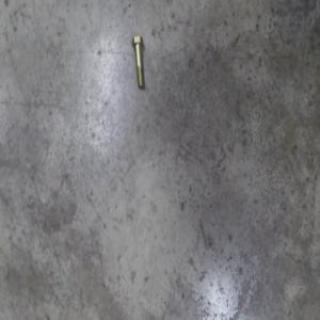Bolttrack_idkeyframe: (130, 34, 144, 87)
